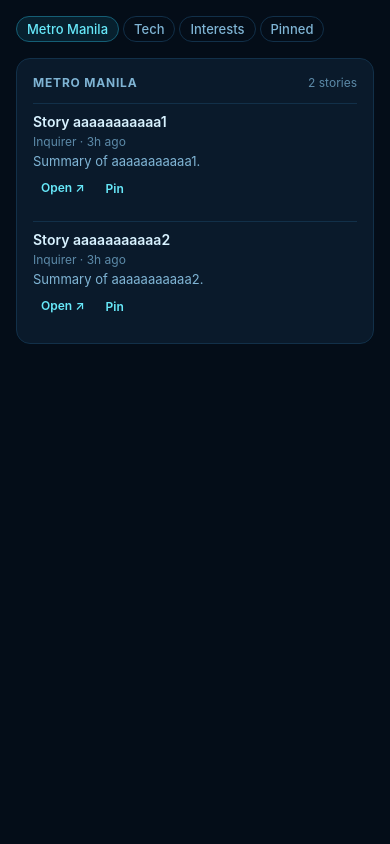
Scenario: Interests (19.4) › is edited on its own chip, and on no other
This screenshot has width=390, height=844.
Click the button "Interests": [218, 29] box 180,16 -> 256,42
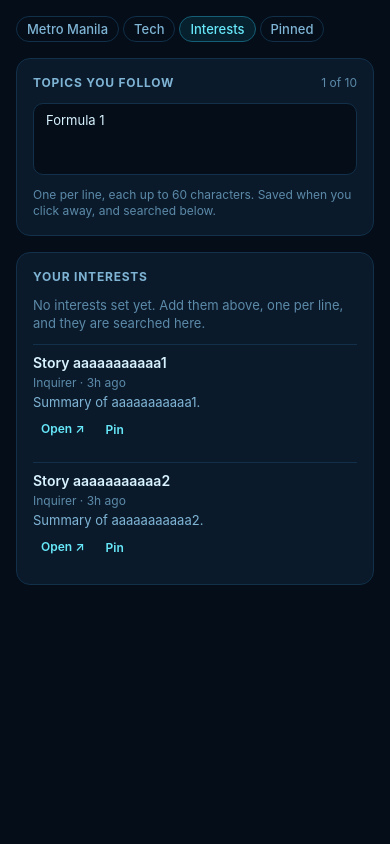
Expected: the text box with test id "news-interests-input" holds "Formula 1", 33,103 -> 357,175
